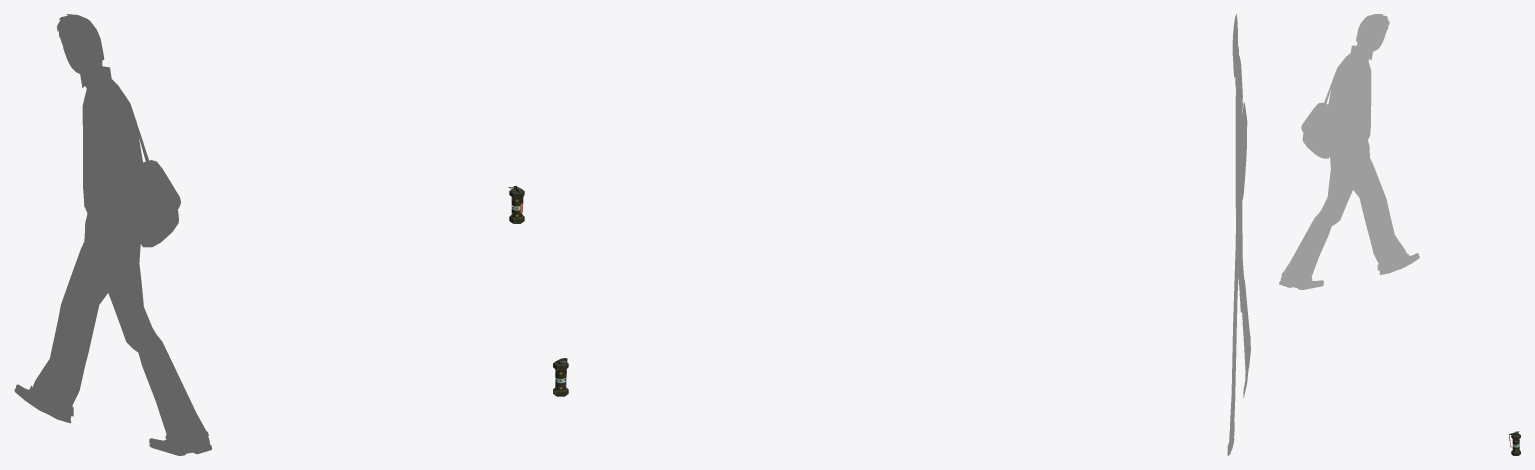
The model's file is stunGrenade.obj.
3 views of the same model, side by side, from view 1: azimuth 30°, elevation 25°; view 2: azimuth 150°, elevation 25°; view 3: azimuth 270°, elevation 25° (orthographic). The views are drawn at different scales.
Visible parts, largest first — view 1: Mesh1 G_2D_Man_Backpack1 Model; view 2: Mesh1 G_2D_Man_Backpack1 Model; view 3: Mesh1 G_2D_Man_Backpack1 Model.
Part boxes in pixels (bbox=[...]): Mesh1 G_2D_Man_Backpack1 Model: bbox=[14, 14, 211, 455]; Mesh1 G_2D_Man_Backpack1 Model: bbox=[1227, 14, 1250, 455]; Mesh1 G_2D_Man_Backpack1 Model: bbox=[1279, 14, 1419, 289].
Bounding box in the file's own units: 105 × 72.76 × 59.31.
Materials: 12 (4 with a texture image).
